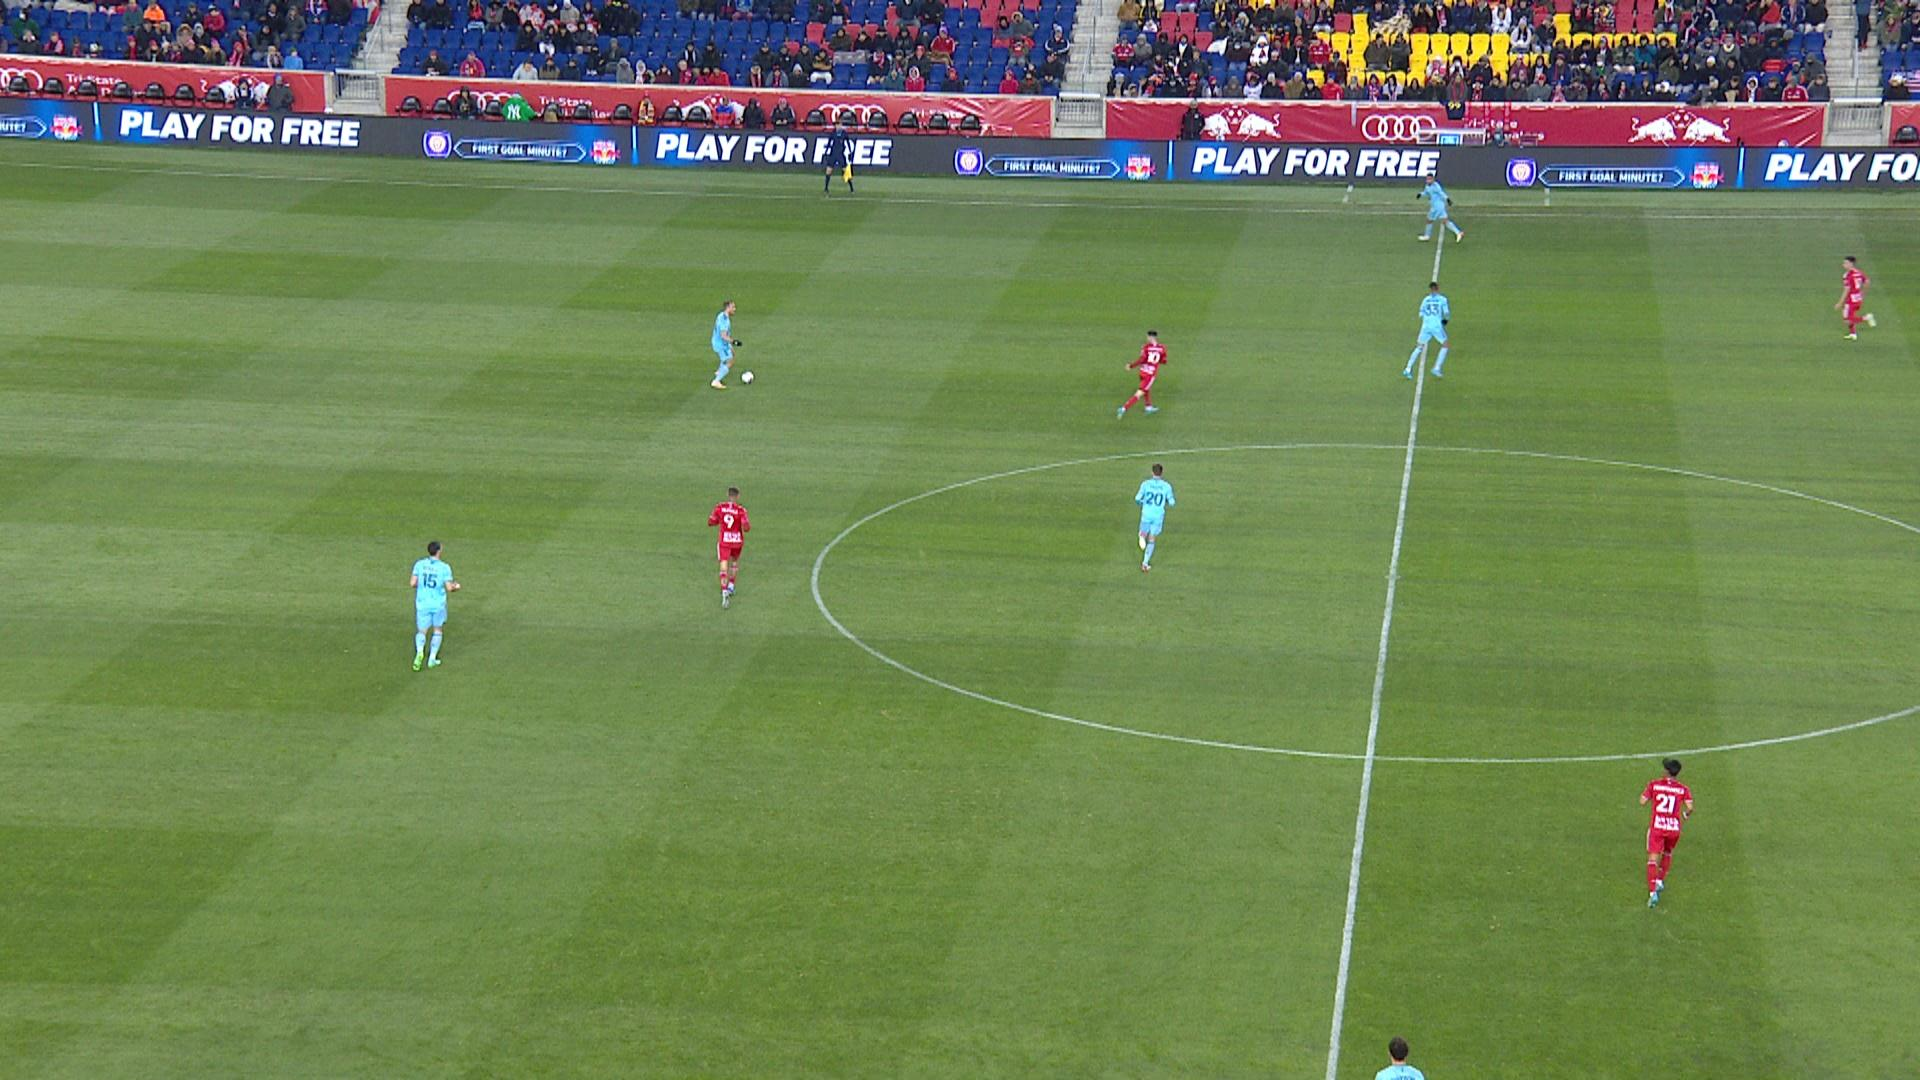football: (741, 371, 756, 384)
